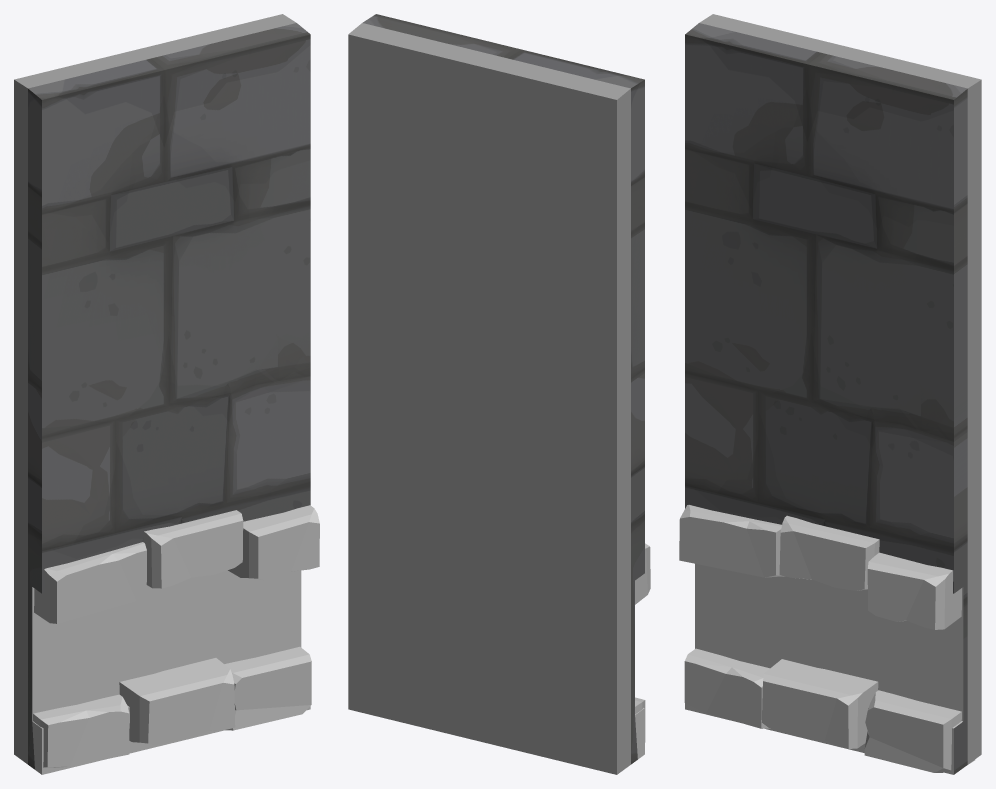
File: SM_Bld_Base_Wall_Half_01.fbx
The picture shows the model from 3 angles, left to right: view 1: azimuth 30°, elevation 25°; view 2: azimuth 150°, elevation 25°; view 3: azimuth 330°, elevation 25°; orthographic projection.
Visible parts, largest first — view 1: SM_Bld_Base_Wall_Half_01; view 2: SM_Bld_Base_Wall_Half_01; view 3: SM_Bld_Base_Wall_Half_01.
Boxes of the visible parts, x1,y1,x2,y2 form: SM_Bld_Base_Wall_Half_01: (14,14,319,774); SM_Bld_Base_Wall_Half_01: (348,14,650,774); SM_Bld_Base_Wall_Half_01: (679,14,981,774).
Size of the model in its own units: 125 by 301 by 36.08.
